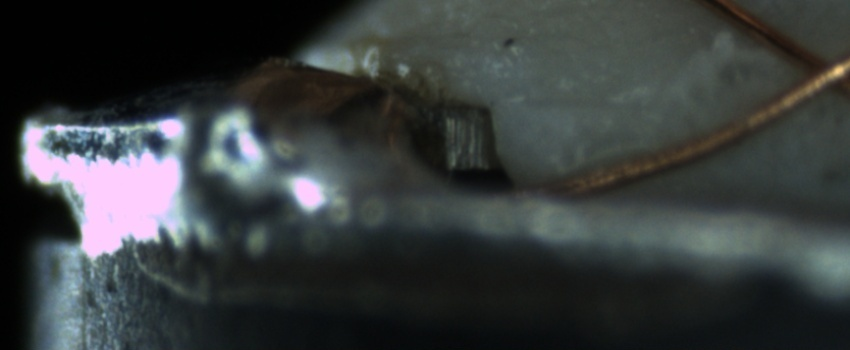CL: (769, 31, 849, 110)
DL: (519, 73, 666, 135)
